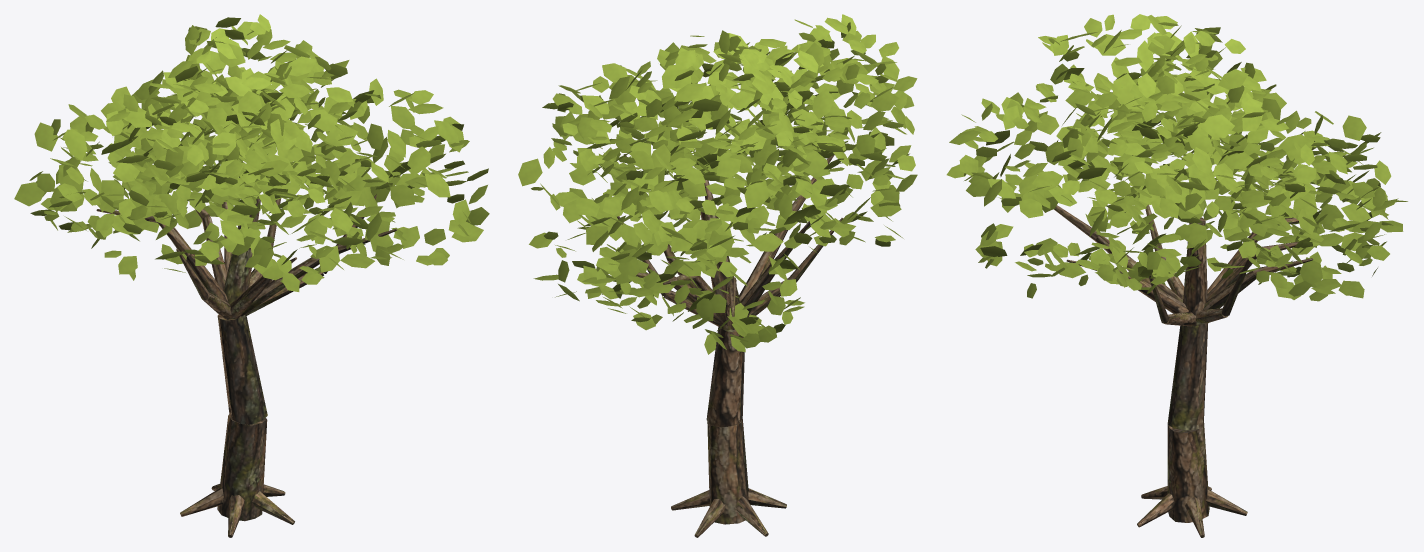
File: Broadleaf_C.glb
3 renders of one model, left to right at view 1: azimuth 30°, elevation 25°; view 2: azimuth 150°, elevation 25°; view 3: azimuth 270°, elevation 25°, orthographic. The views are drawn at different scales.
Parts seen in each view (by area): view 1: Broadleaf_C; view 2: Broadleaf_C; view 3: Broadleaf_C.
Boxes of the visible parts, x1,y1,x2,y2 form: Broadleaf_C: (14, 14, 489, 537); Broadleaf_C: (518, 14, 917, 537); Broadleaf_C: (946, 14, 1407, 537).
Size of the model in its own units: 4.68 by 5.77 by 5.03.
1 material, 1 textured.
